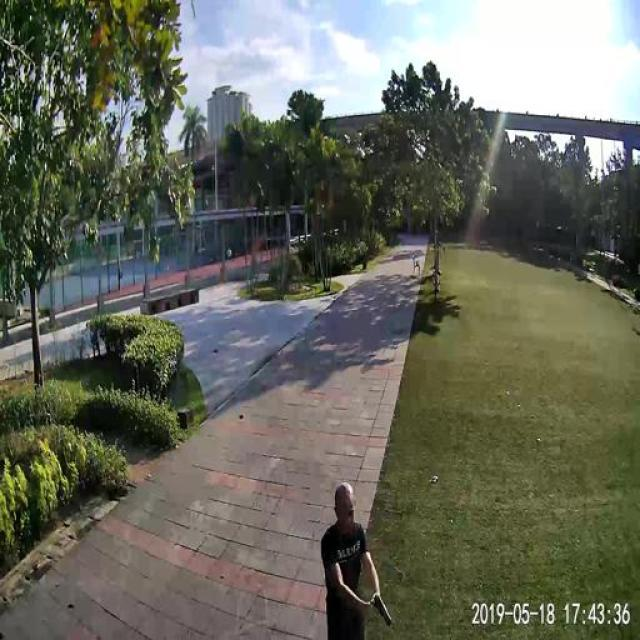Gun: (363, 589, 400, 630)
